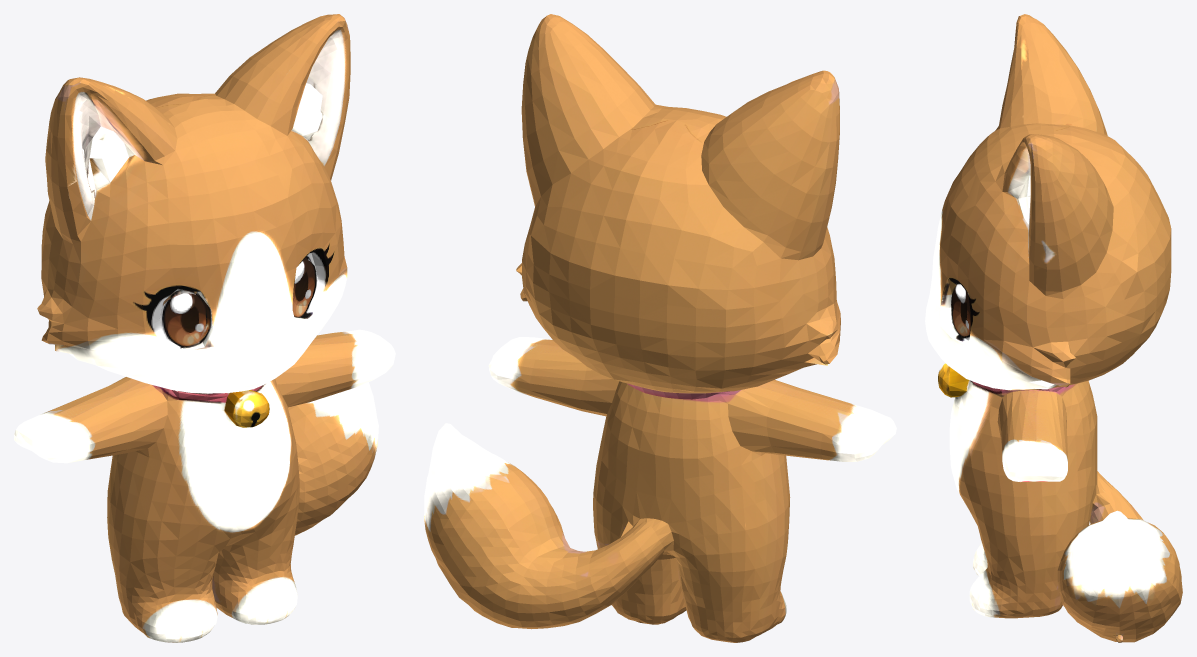
Rendered from きつね.glb.
3 renders of one model, left to right at view 1: azimuth 30°, elevation 25°; view 2: azimuth 150°, elevation 25°; view 3: azimuth 270°, elevation 25°, orthographic. The views are drawn at different scales.
Parts seen in each view (by area): view 1: Mesh_0; view 2: Mesh_0; view 3: Mesh_0.
Boxes of the visible parts, box(x1,y1,x2,y2) form: Mesh_0: box(14, 14, 395, 642); Mesh_0: box(424, 14, 896, 642); Mesh_0: box(925, 14, 1182, 642).
Bounding box in the file's own units: 0.0877 × 0.12 × 0.0542.
Materials: 1 (1 with a texture image).
